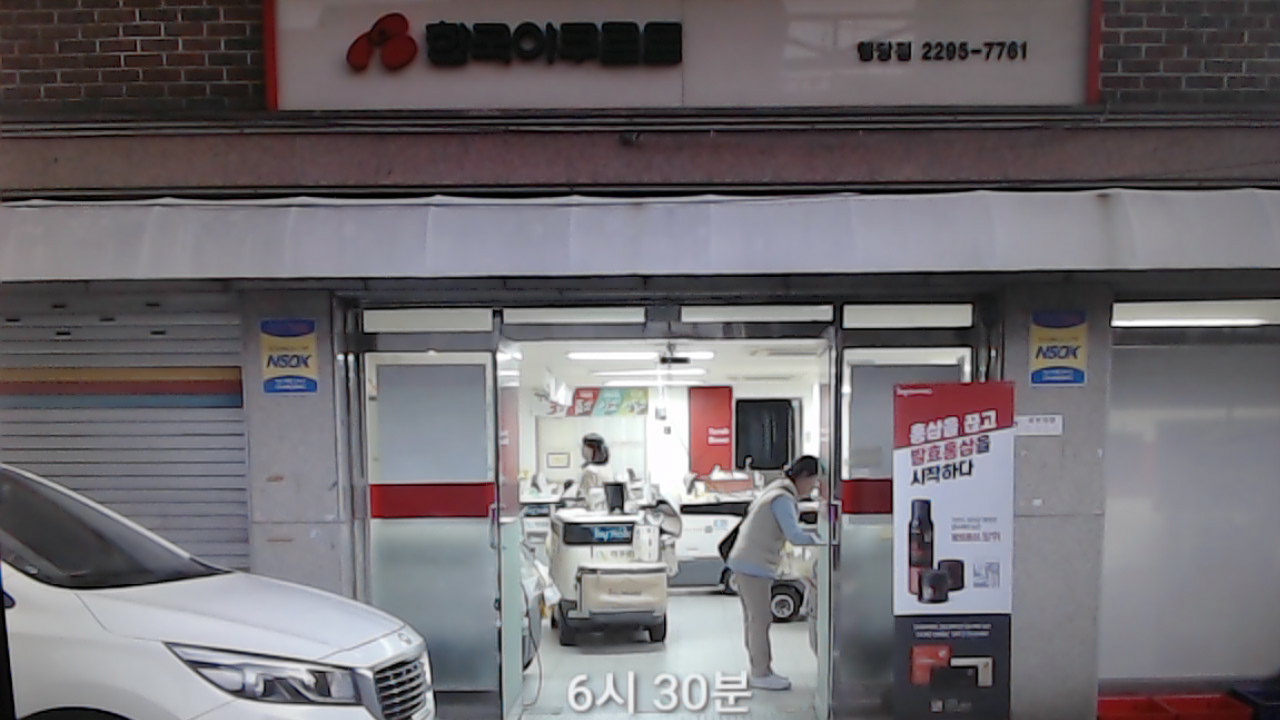Yakurut: (718, 444, 826, 690), (567, 424, 623, 510)
